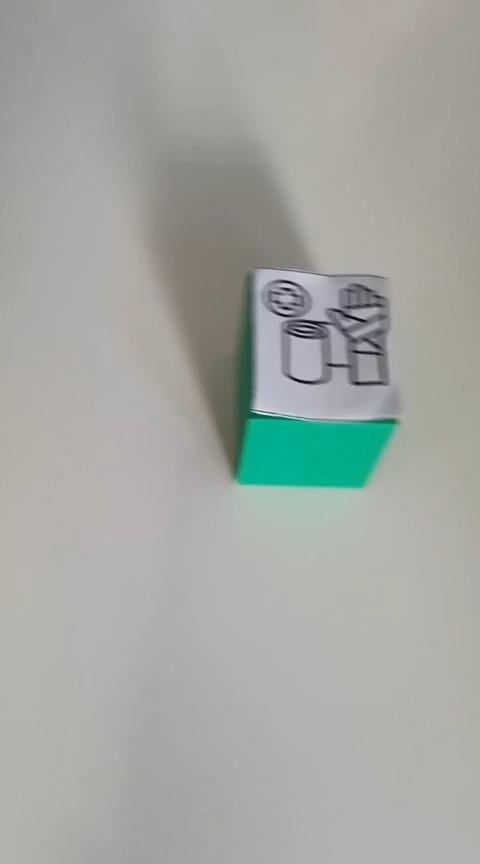Bandages: (234, 265, 402, 489)
